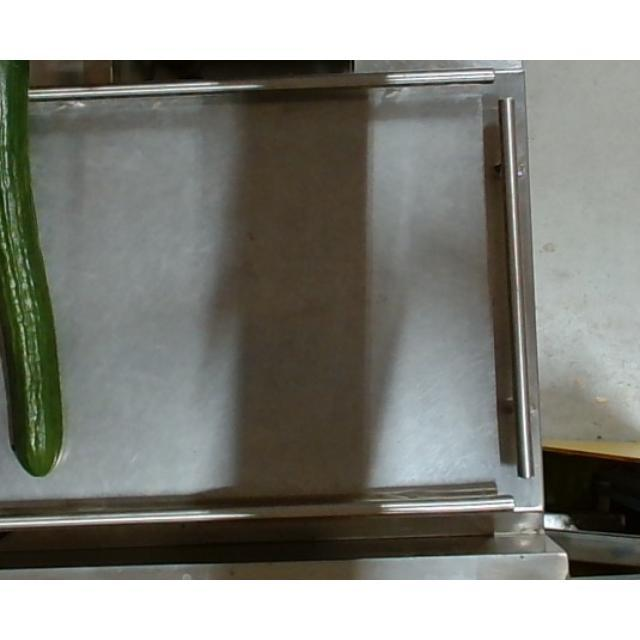cucumber: (0, 62, 64, 478)
